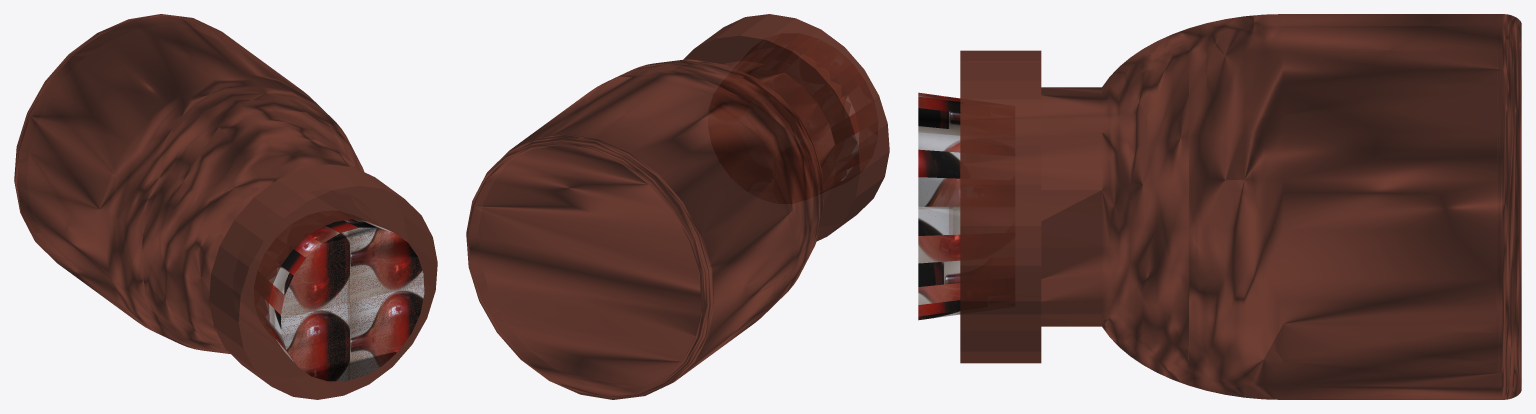
File: model_align.obj
The picture shows the model from 3 angles, left to right: view 1: azimuth 30°, elevation 25°; view 2: azimuth 150°, elevation 25°; view 3: azimuth 270°, elevation 25°; orthographic projection. The views are drawn at different scales.
Size of the model in its own units: 0.0772 by 0.0772 by 0.12.
